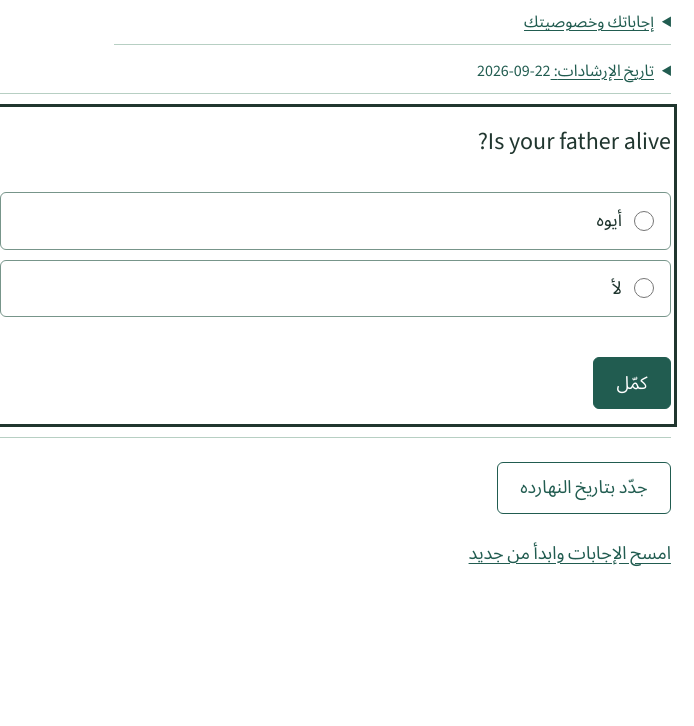
hydration, native fields and semantic progression › discloses ar privacy and the date form only on expansion, showing the canonical date
Expected: the heading "Is your father alive?" is shown, [478,125,671,157]
Step 1. Click the heading "إجاباتك وخصوصيتك" → (589, 22), box [524,11,654,32]
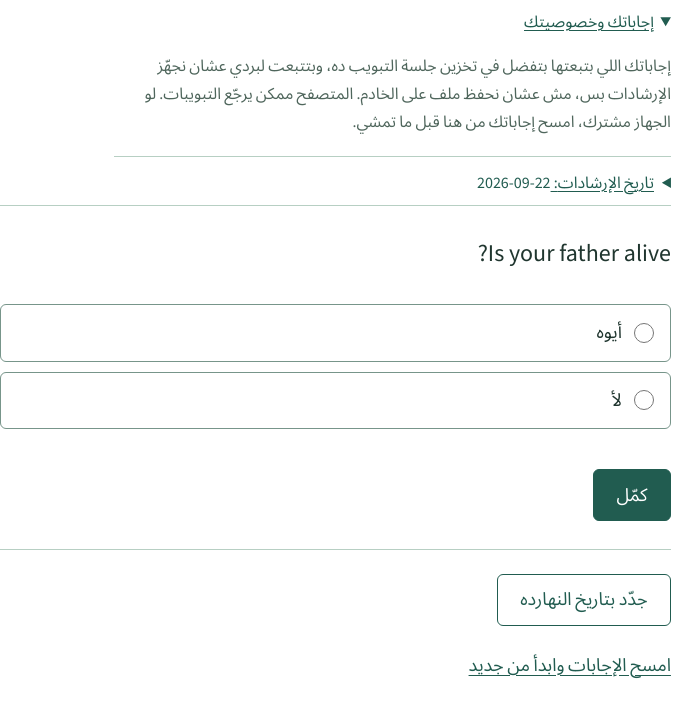
Now the text "إجاباتك وخصوصيتك" shows "المتصفح ممكن يرجّع التبويبات", box [144,55,671,132]
Step 2. Click the heading "تاريخ الإرشادات: 2026-09-22" → (566, 182), box [477,172,654,193]
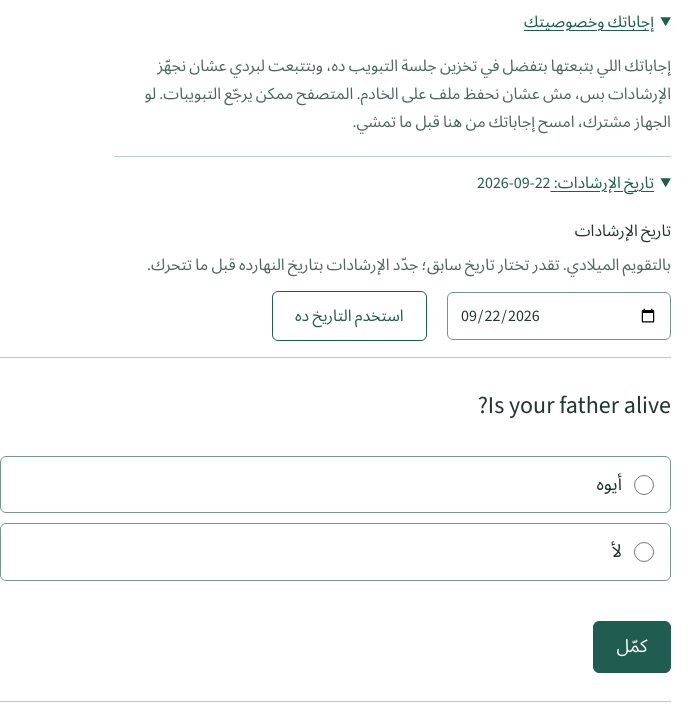
Now the text "تاريخ الإرشادات:" has attribute open, box [0,161,671,358]
Step 3. Type "2024-02-29" into the date field labelled "تاريخ الإرشادات" → (559, 316), box [447,292,671,340]
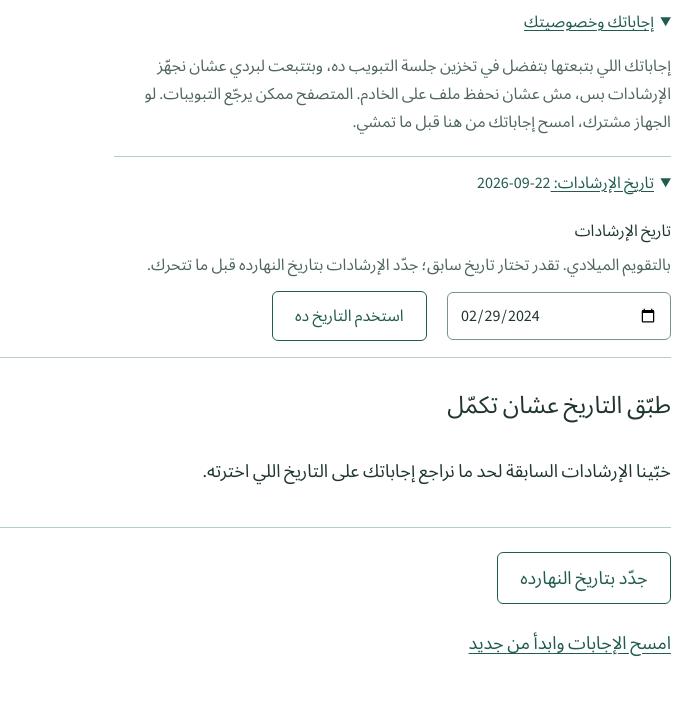
Step 4. Click the button "استخدم التاريخ ده" → (349, 316), box [272,291,427,341]
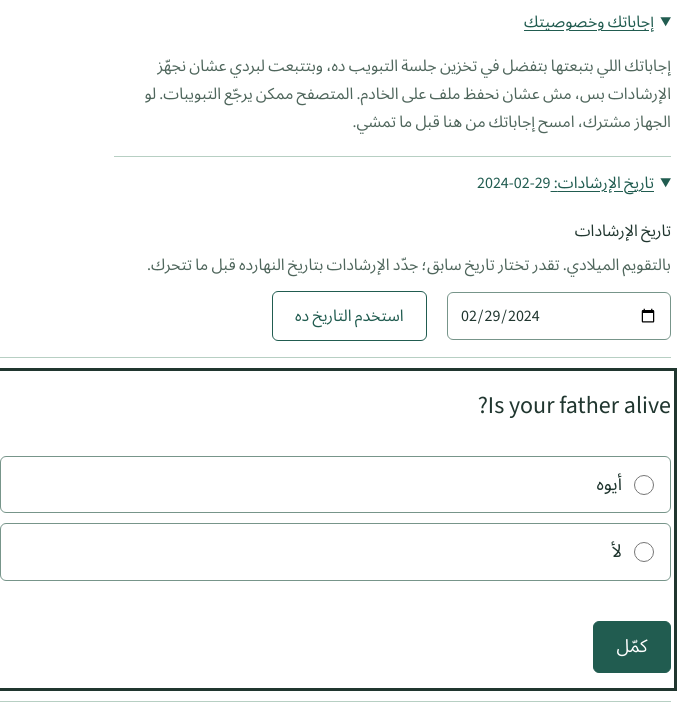
Now the heading "تاريخ الإرشادات: 2024-02-29" is shown, box [477,172,654,193]
